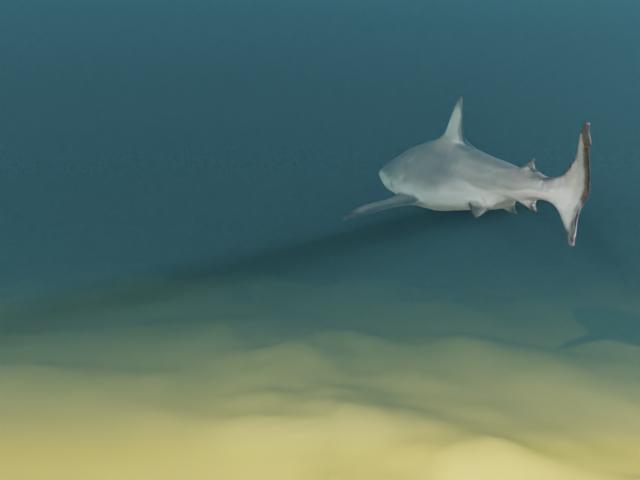Carribean Shark.001: (342, 96, 591, 246)
